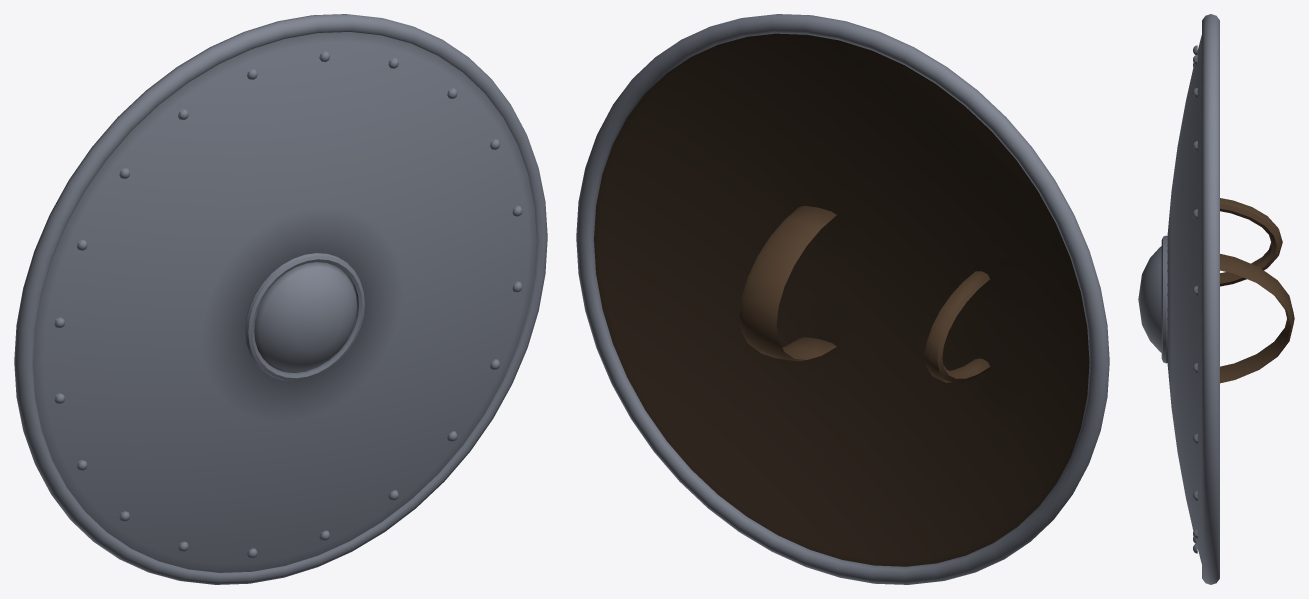
File: shield.glb
The picture shows the model from 3 angles, left to right: view 1: azimuth 30°, elevation 25°; view 2: azimuth 150°, elevation 25°; view 3: azimuth 270°, elevation 25°; orthographic projection. The views are drawn at different scales.
Parts seen in each view (by area): view 1: shield; view 2: shield; view 3: shield.
Boxes of the visible parts, x1=… form: shield: x1=14, y1=14, x2=547, y2=584; shield: x1=576, y1=14, x2=1109, y2=584; shield: x1=1138, y1=14, x2=1294, y2=584.
Size of the model in its own units: 0.633 by 0.633 by 0.1732.
